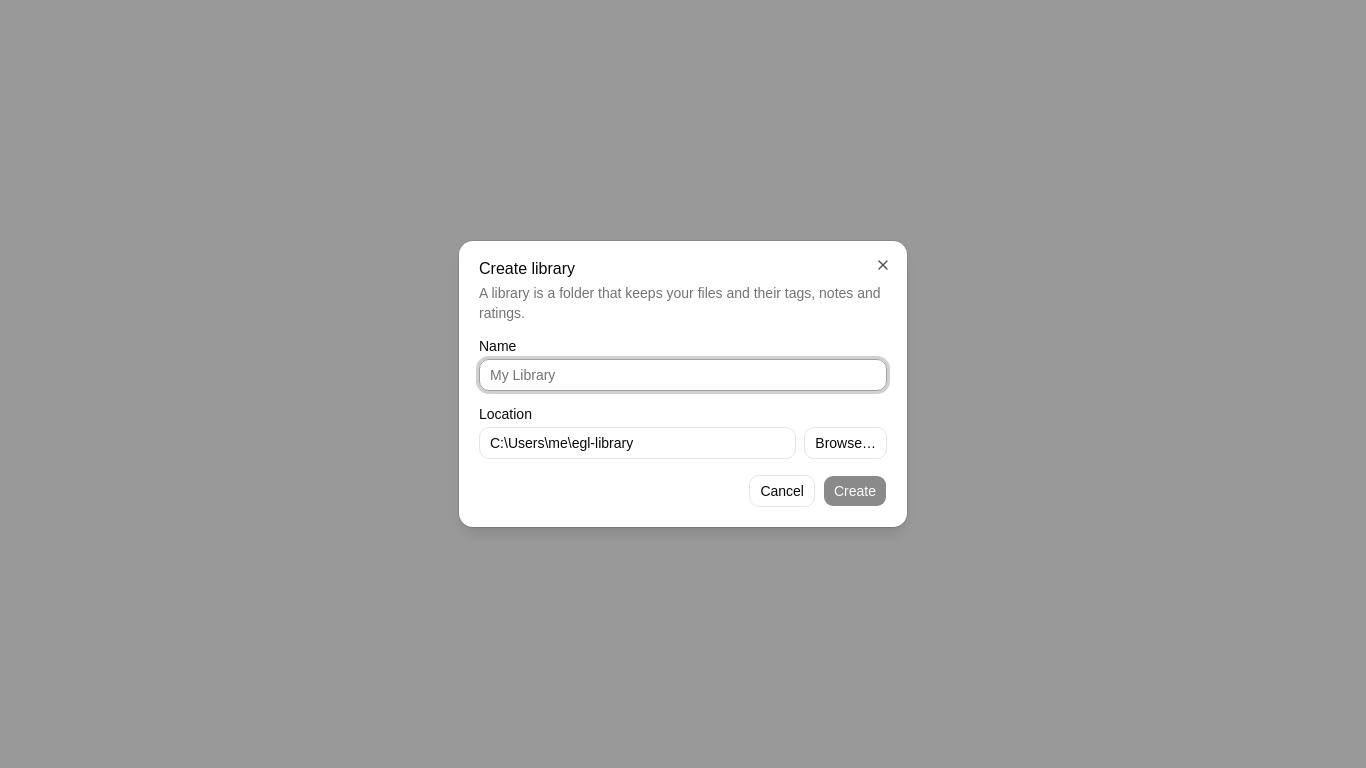
Scenario: CreateLibraryDialog › shows why a library cannot be created and stays open
expect the field showing "C:\\Users\\me\\egl-library" is shown: met, box [479,427,796,459]
In the field labelled "Name": (683,375) [479,359,887,391], type "Cloud"
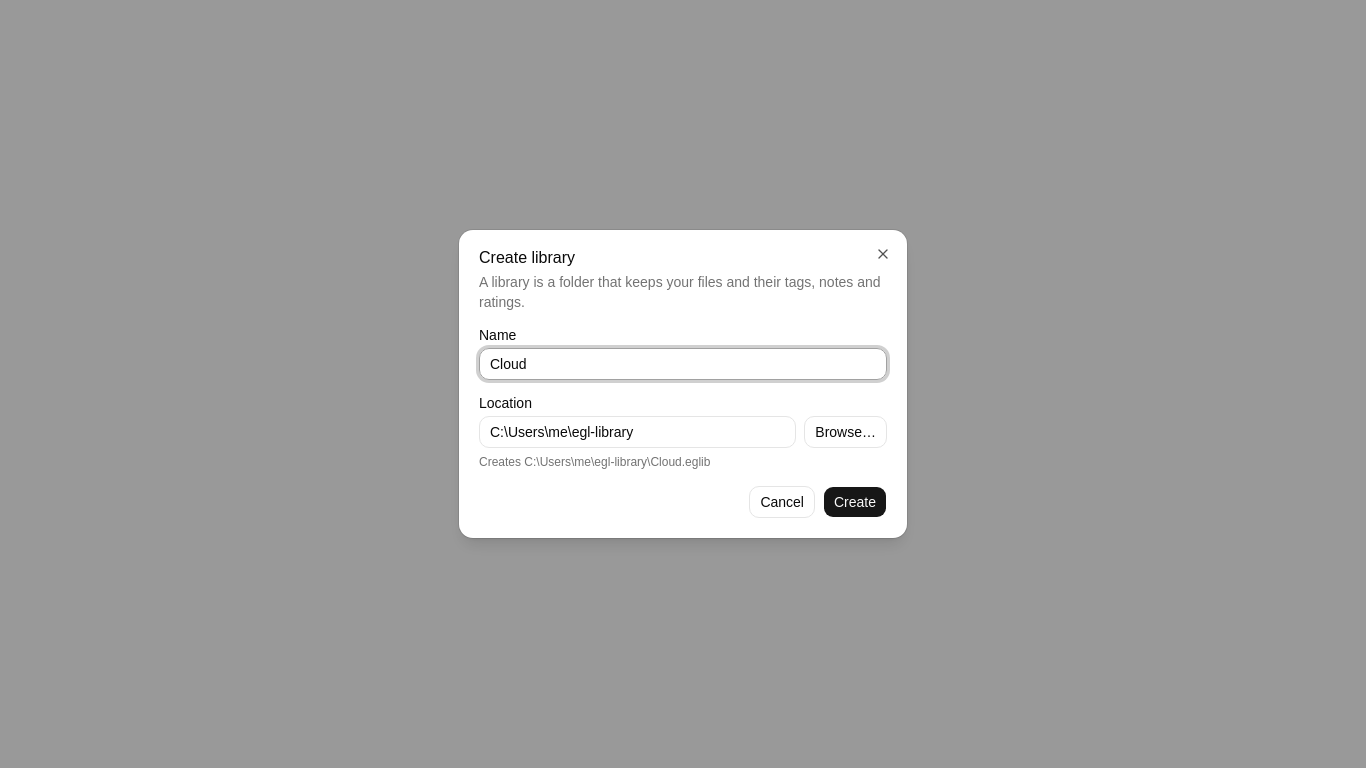
Click the button "Create": (855,502) [823,486,887,518]
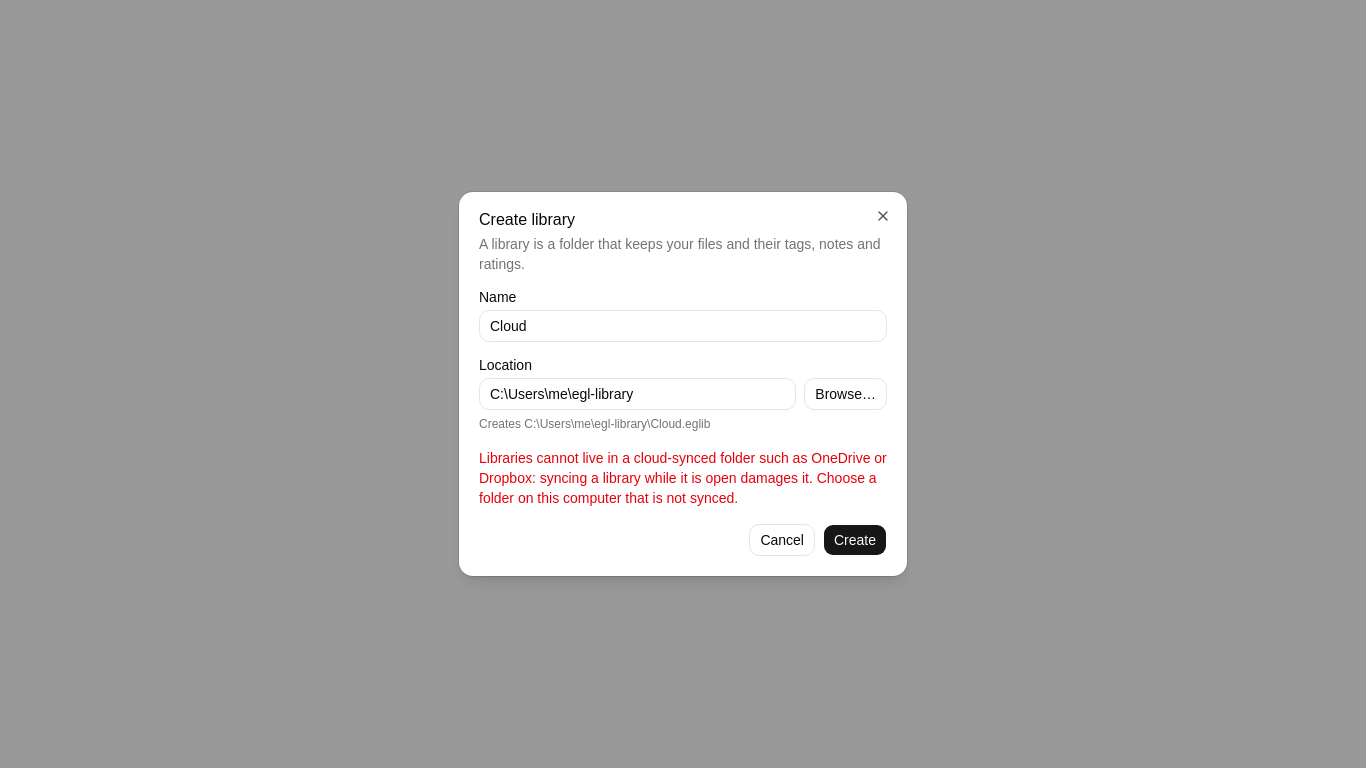
expect the message shows "cloud-synced folder": met, box [479,450,887,506]
